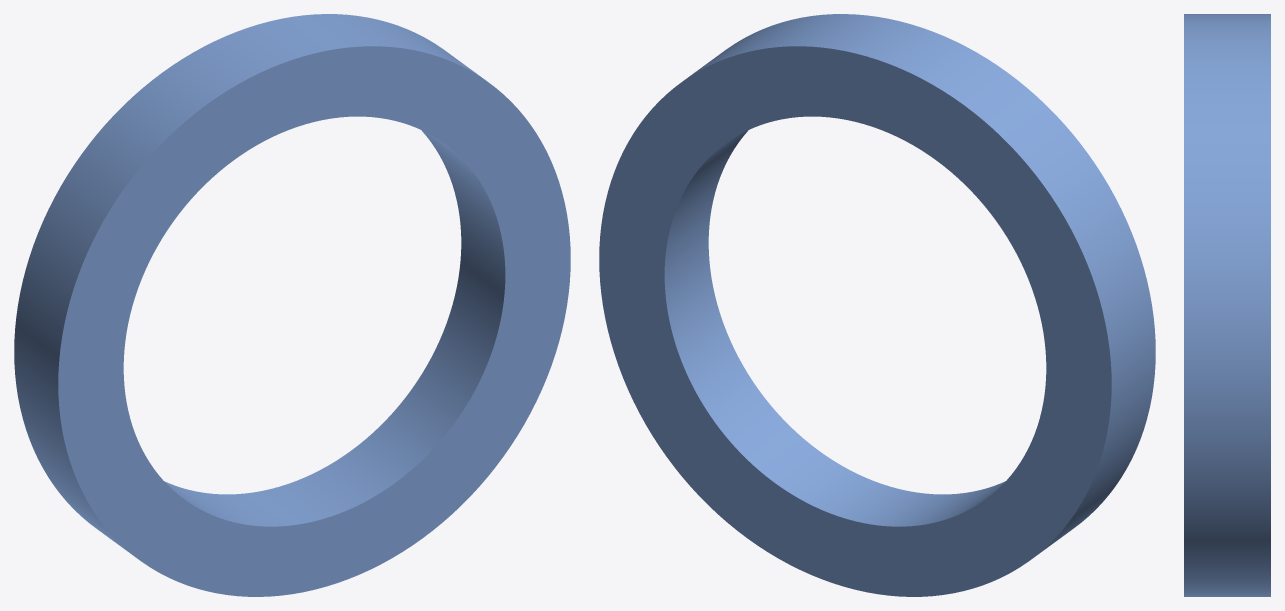
Rendered from bearing35_47_7_1.gltf.
3 views of the same model, side by side, from view 1: azimuth 30°, elevation 25°; view 2: azimuth 150°, elevation 25°; view 3: azimuth 270°, elevation 25° (orthographic).
Parts seen in each view (by area): view 1: mesh1082, mesh1083, mesh1081; view 2: mesh1084, mesh1083, mesh1081; view 3: mesh1083.
Part boxes in pixels (x1=…): mesh1082: x1=58, y1=46, x2=570, y2=596; mesh1083: x1=14, y1=14, x2=484, y2=557; mesh1081: x1=164, y1=130, x2=505, y2=526; mesh1084: x1=599, y1=46, x2=1111, y2=596; mesh1083: x1=685, y1=14, x2=1155, y2=557; mesh1081: x1=664, y1=130, x2=1005, y2=526; mesh1083: x1=1184, y1=14, x2=1270, y2=596.
Bounding box in the file's own units: 0.047 × 0.047 × 0.007.
